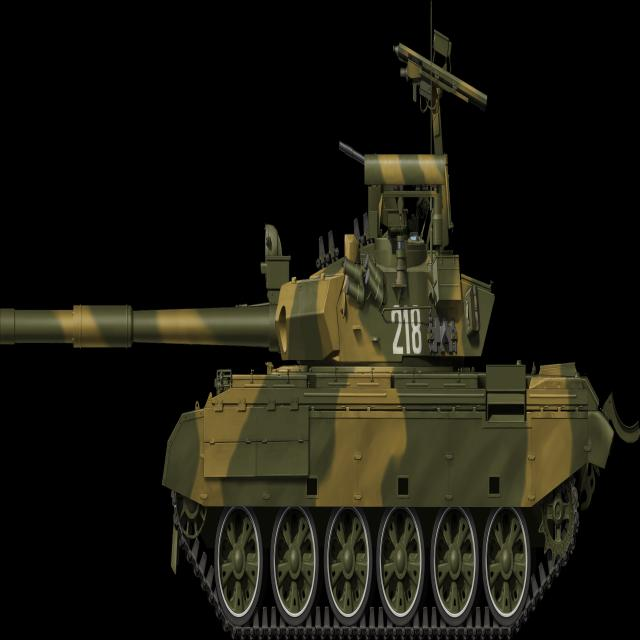north tank: (2, 6, 637, 640)
